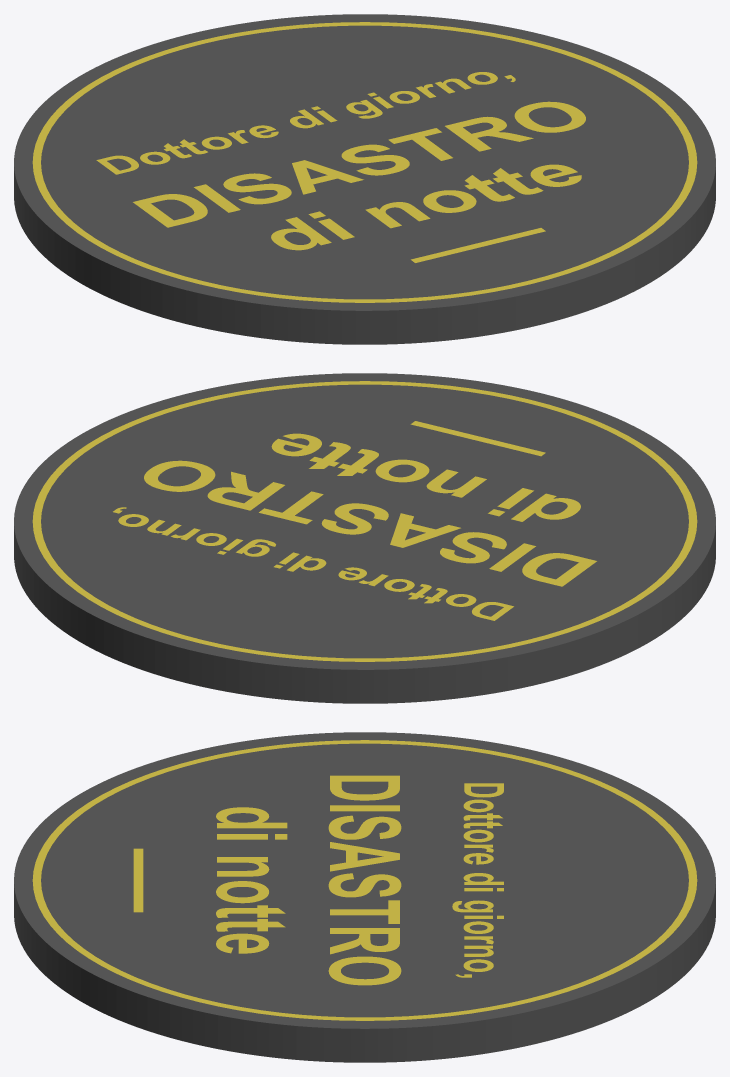
Rendered from sottobicchiere-dottore-giorno-disastro-notte.glb.
3 views of the same model, one above another, from view 1: azimuth 30°, elevation 25°; view 2: azimuth 150°, elevation 25°; view 3: azimuth 270°, elevation 25° (orthographic).
Visible parts, largest first — view 1: coaster_base, coaster_ink; view 2: coaster_base, coaster_ink; view 3: coaster_base, coaster_ink.
Part boxes in pixels (box(x1,y1,x2,y2)): coaster_base: box(14, 14, 715, 344); coaster_ink: box(32, 22, 697, 302); coaster_base: box(14, 373, 715, 703); coaster_ink: box(32, 381, 697, 661); coaster_base: box(14, 732, 715, 1062); coaster_ink: box(32, 740, 697, 1020).
Size of the model in its own units: 0.075 by 0.004 by 0.075.
